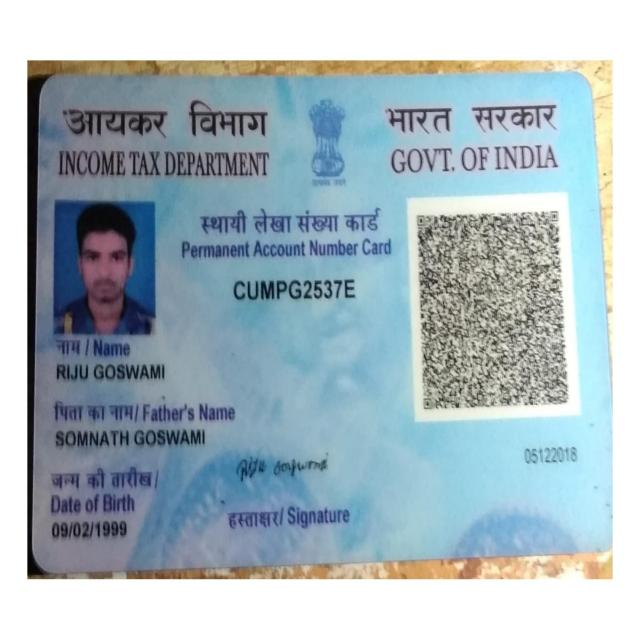pan_card: (33, 78, 609, 568)
